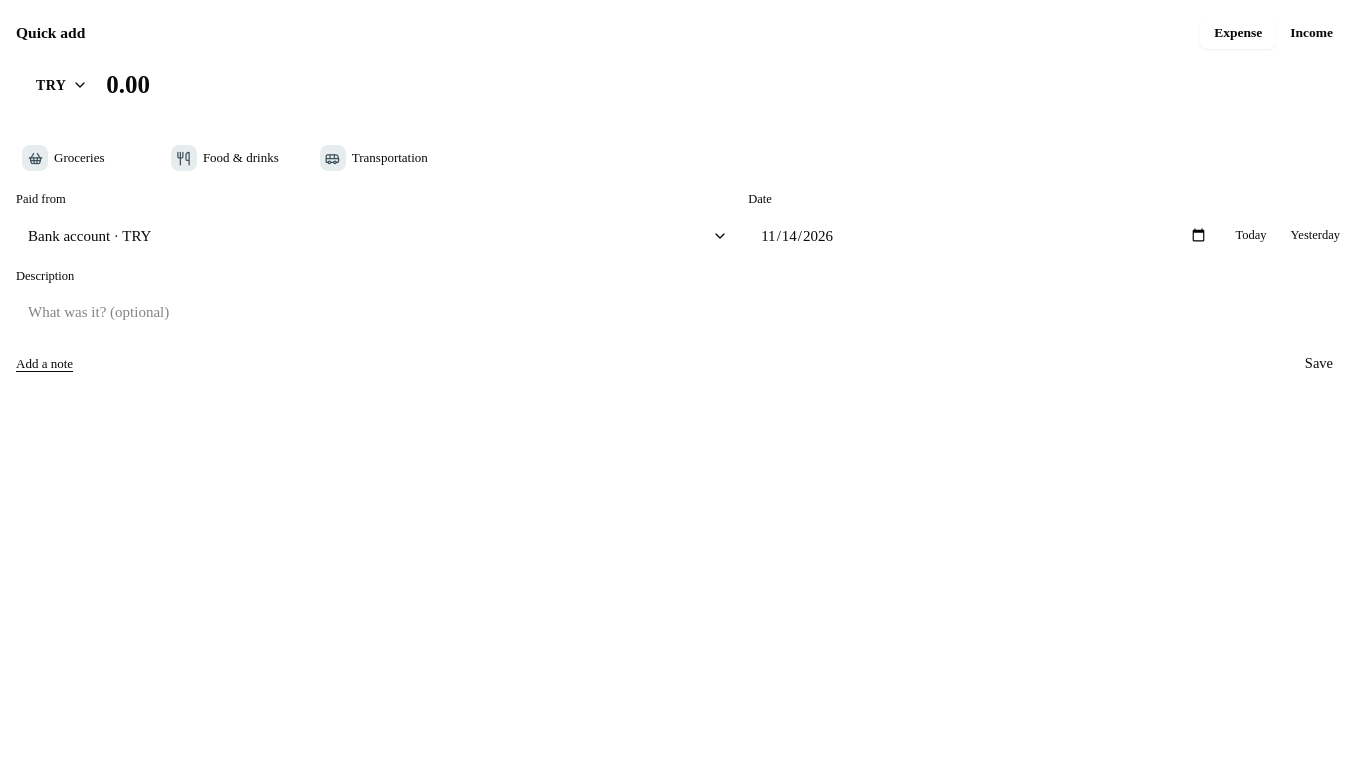
Quick Add picks the account for the currency › never changes an account the person chose
Press ArrowDown in the dropdown named "Paid from", box [16,215,738,257]
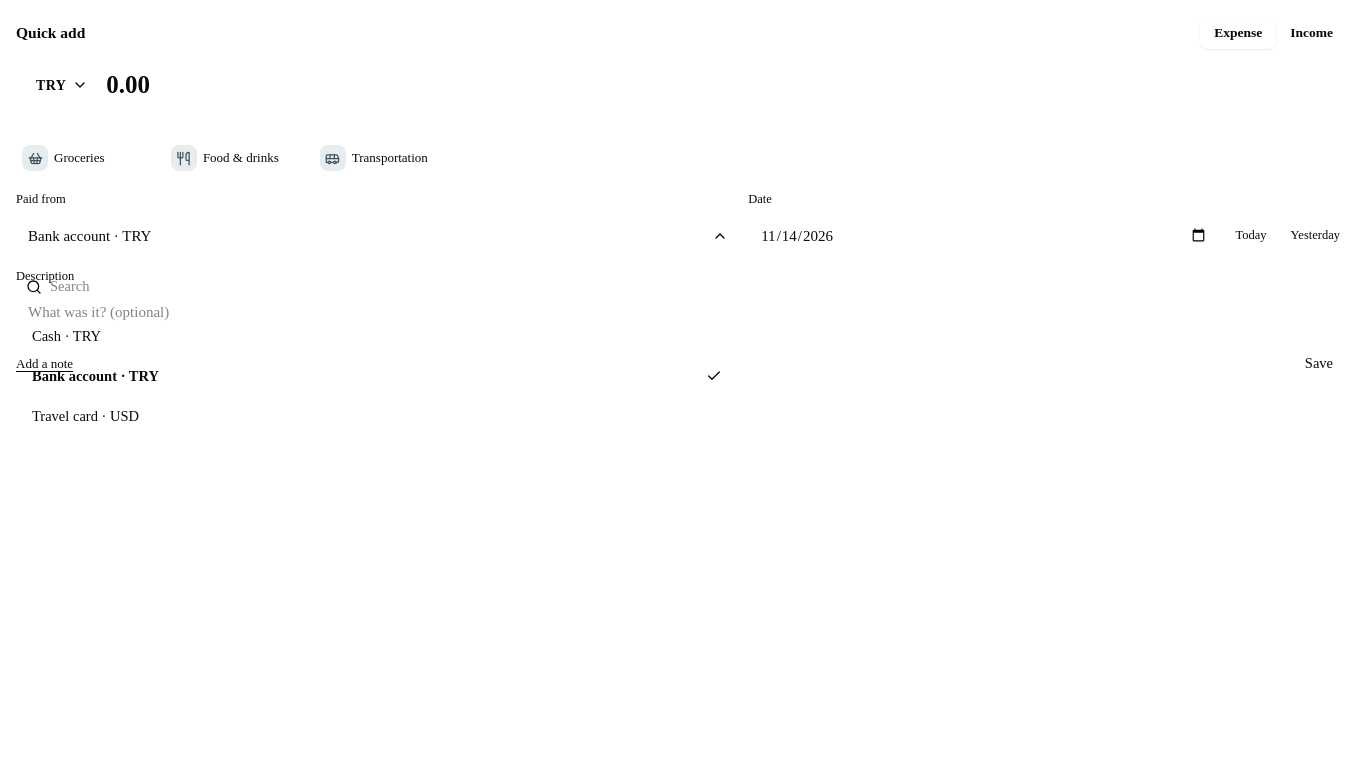
Press the mouse on the option "Cash · TRY" at (66, 336), box [32,328,101,344]
Click the option "Cash · TRY" at (66, 336), box [32,328,101,344]
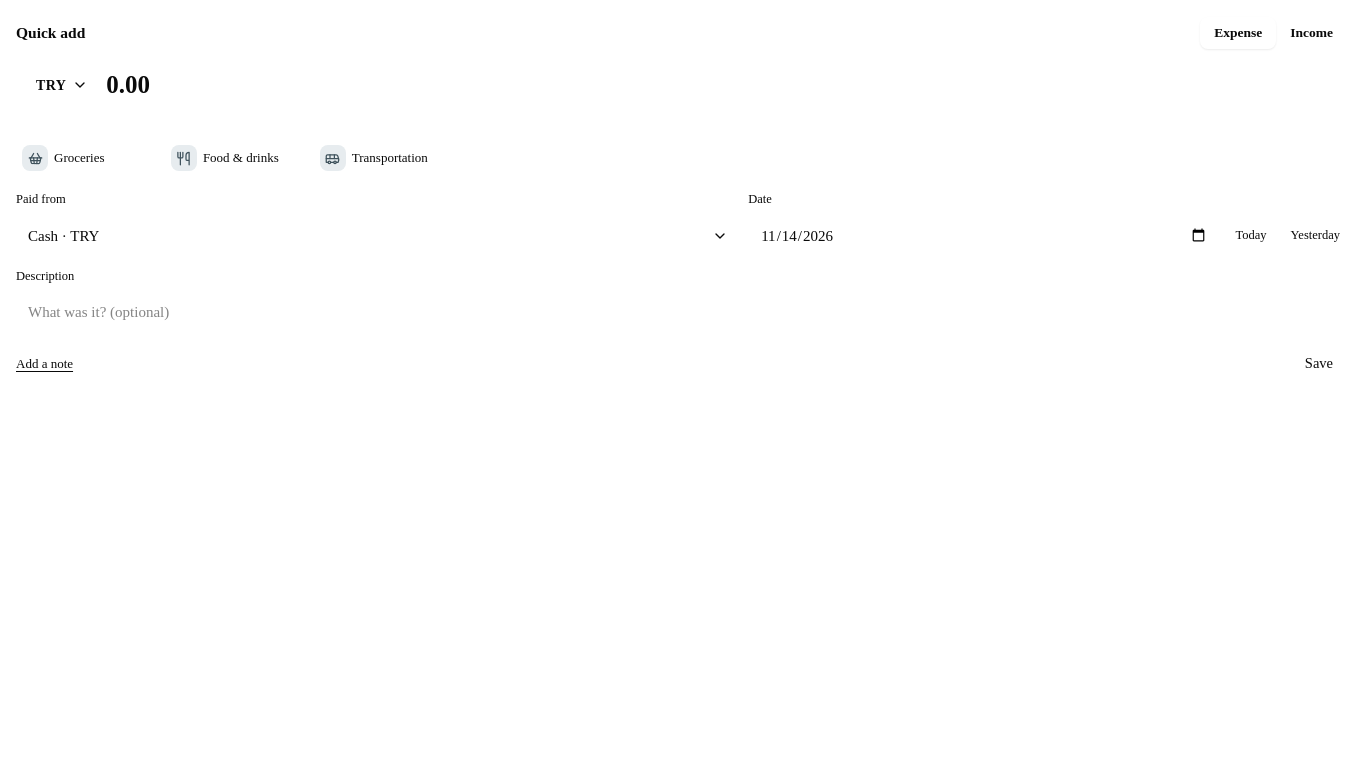
Result: the list is gone
Press ArrowDown in the dropdown named "Currency", box [26,67,96,103]
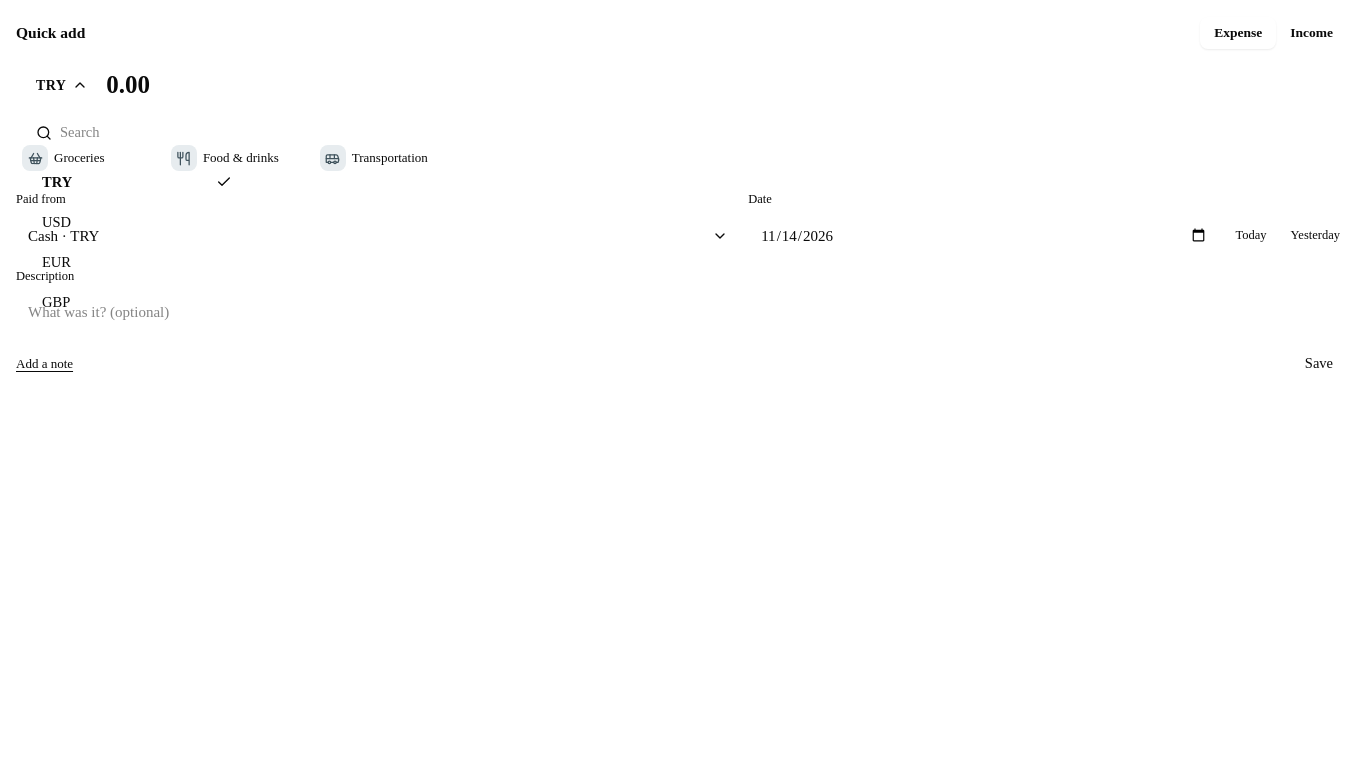
Press the mouse on the option "USD" at (56, 222), box [42,214,71,230]
Click the option "USD" at (56, 222), box [42,214,71,230]
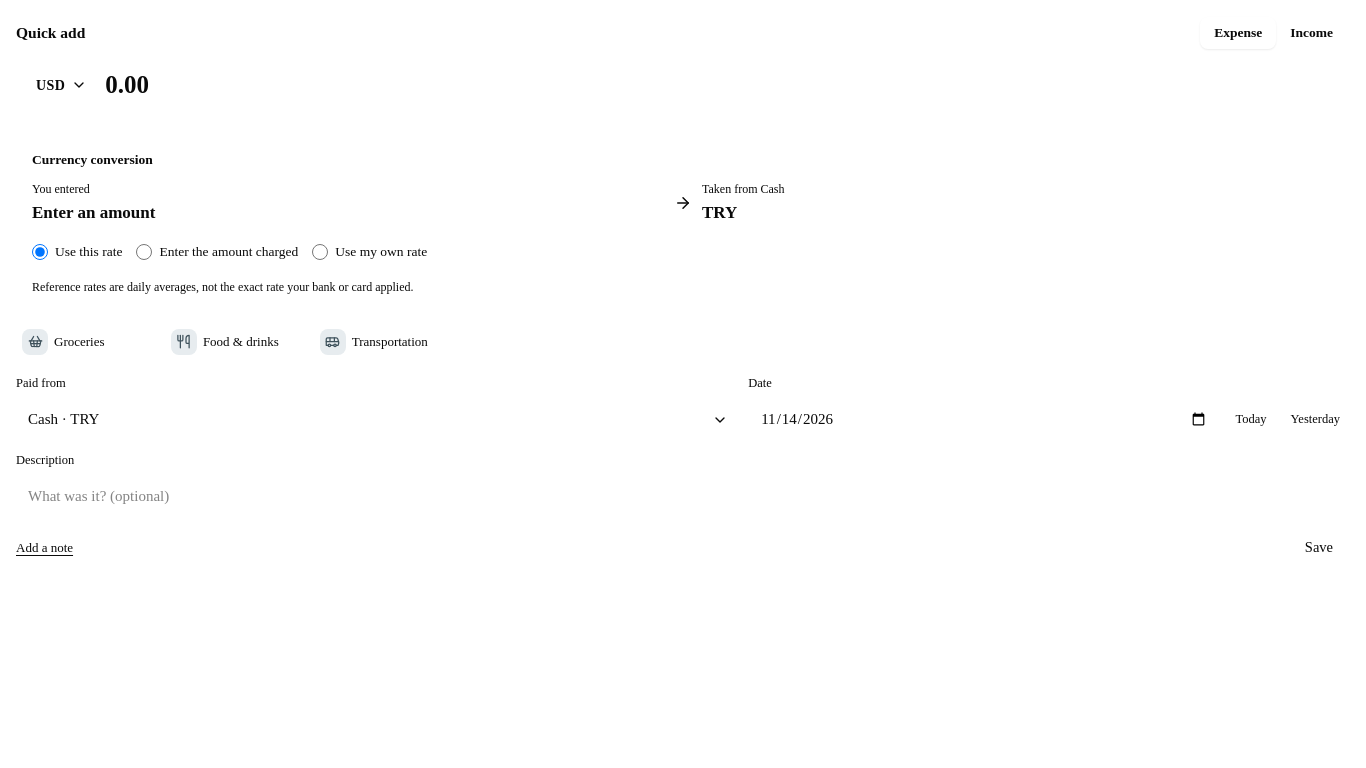
Result: the dropdown named "Paid from" reads "Cash · TRY" at [16,398,738,440]
Result: the list is gone
Type "22" into the field named "Amount" at (723, 85), box [105,65,1340,105]
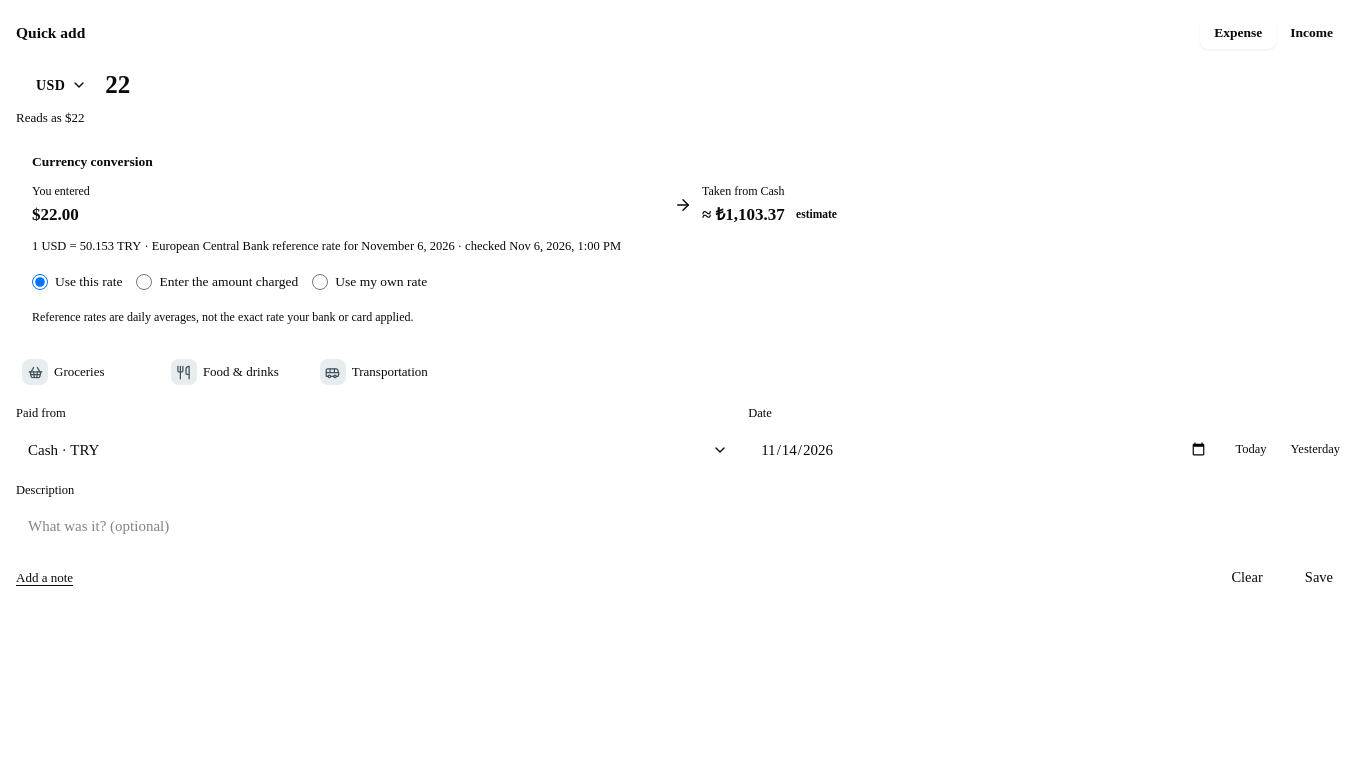
Result: the text "European Central Bank reference rate" is shown at [152,239,455,253]
